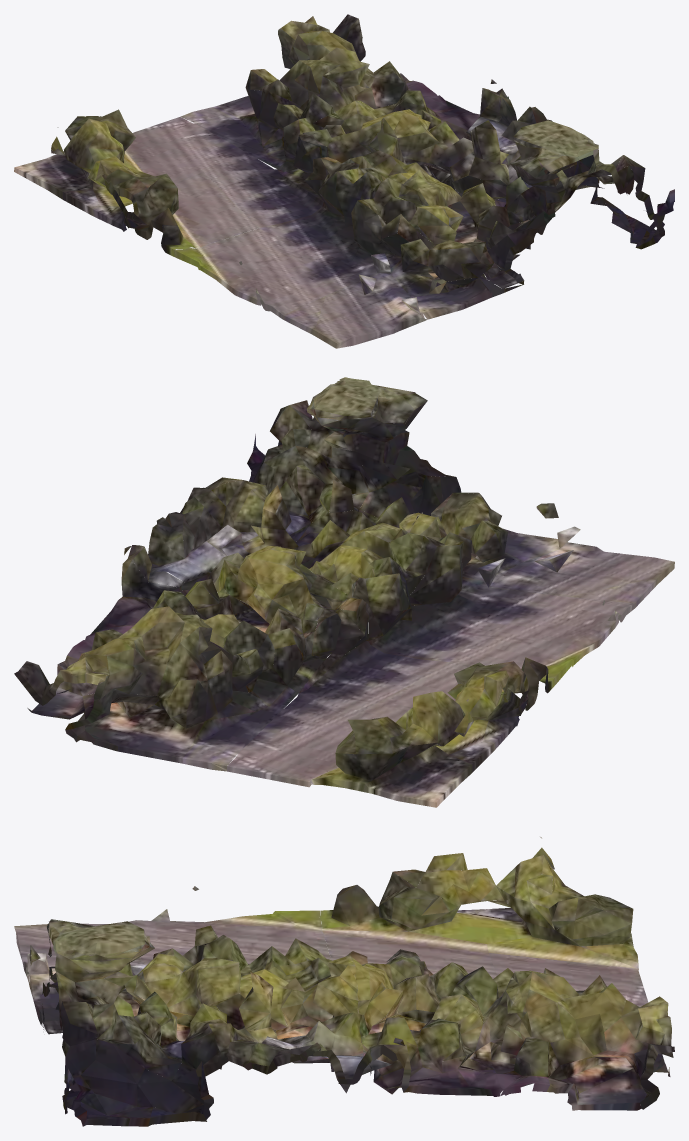
3 views of the same model, one above another, from view 1: azimuth 30°, elevation 25°; view 2: azimuth 150°, elevation 25°; view 3: azimuth 270°, elevation 25° (orthographic). The views are drawn at different scales.
Parts seen in each view (by area): view 1: Mesh_0; view 2: Mesh_0; view 3: Mesh_0.
Part boxes in pixels (box(x1,y1,x2,y2)): Mesh_0: box(14, 14, 674, 348); Mesh_0: box(14, 377, 674, 807); Mesh_0: box(14, 837, 674, 1126).
Bounding box in the file's own units: 67.49 × 20.98 × 82.49.
2 materials, 2 textured.
